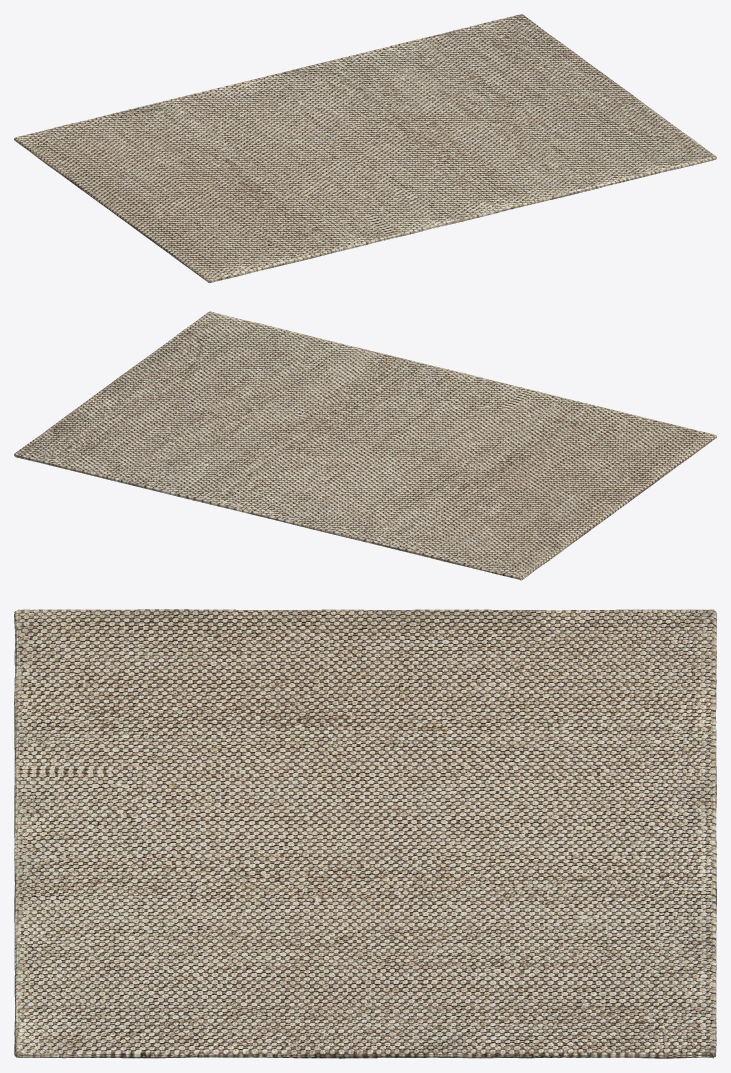
Rendered from rug.glb.
3 views of the same model, one above another, from view 1: azimuth 30°, elevation 25°; view 2: azimuth 150°, elevation 25°; view 3: azimuth 270°, elevation 25° (orthographic). The views are drawn at different scales.
Parts seen in each view (by area): view 1: BP_Rug03; view 2: BP_Rug03; view 3: BP_Rug03.
Part boxes in pixels (bbox=[...]): BP_Rug03: bbox=[14, 14, 716, 282]; BP_Rug03: bbox=[14, 311, 716, 580]; BP_Rug03: bbox=[14, 609, 716, 1058].
Bounding box in the file's own units: 3.01 × 0.0219 × 2.01.
1 material, 1 textured.
